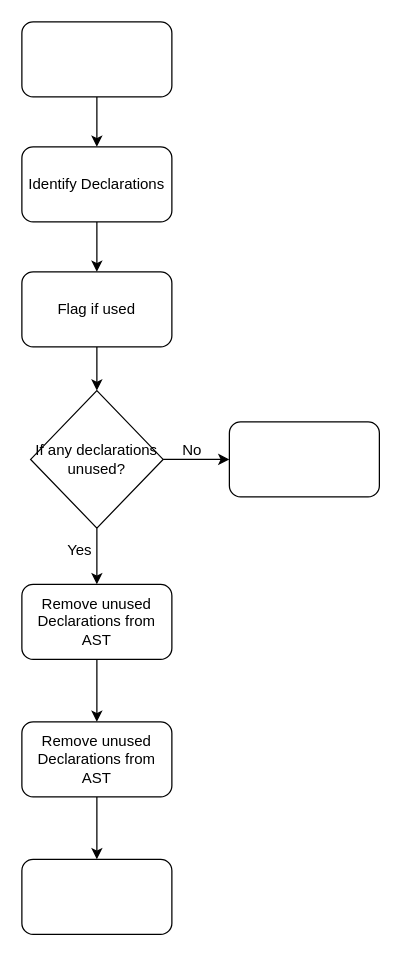
Some shapes in this 401 by 956 pixel diagram are drawn without their labels. The shapes that lost their labels are listed below. From the top down, each one's centre as x and y in pixels, then its label:
At point 96,59: "Traverse the AST".
At point 303,459: "If there is no unused declarations, pass and don't modify the AST".
At point 96,896: "Return the updated, cleaned and more MS AST".
